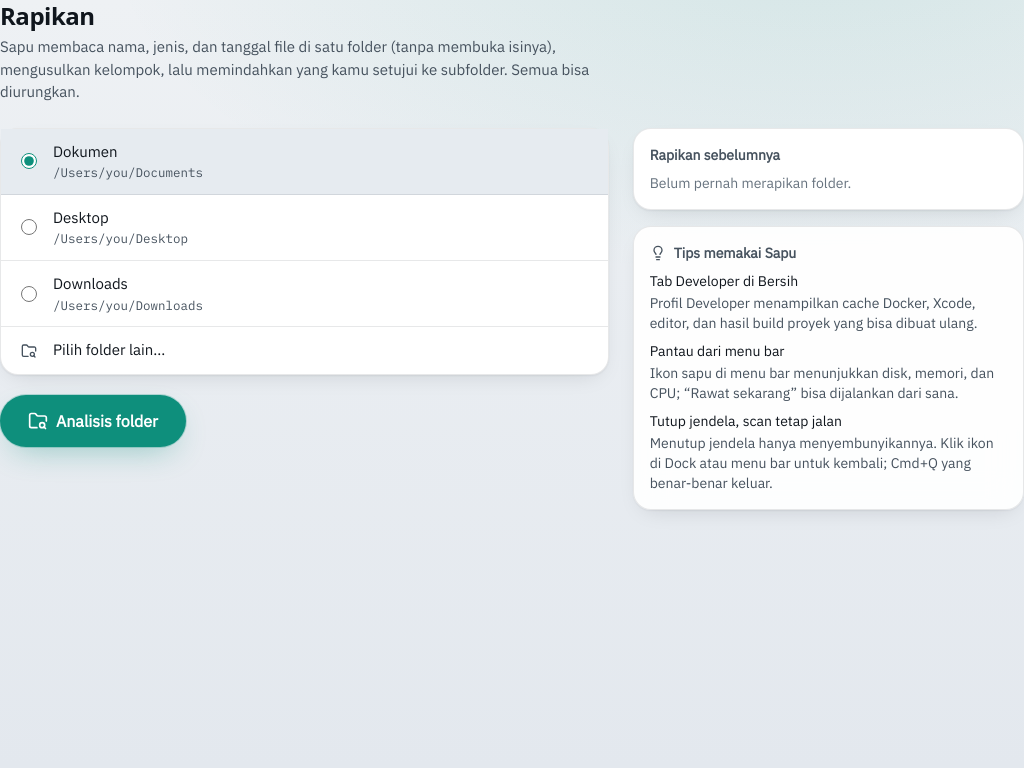
Scenario: OrganizeView › ticks every waiting group with one button in the callout
Click the button "Analisis folder" at [93, 421], box [0, 395, 186, 447]
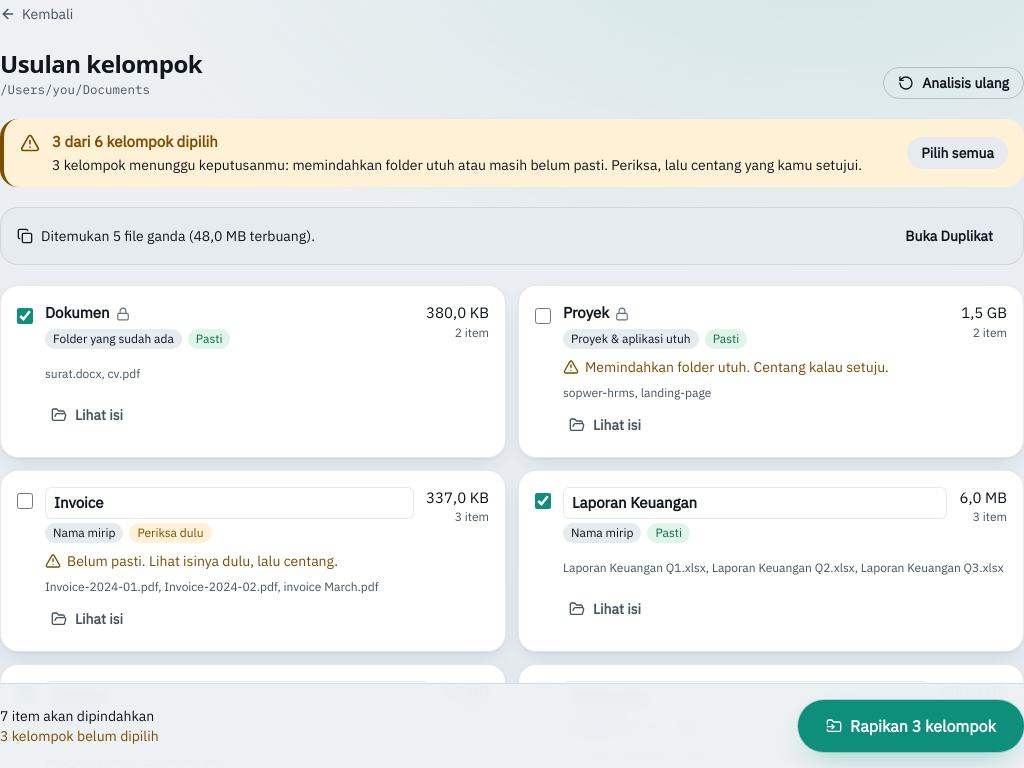
Click the button "Pilih semua" at [958, 153], box [907, 137, 1008, 169]
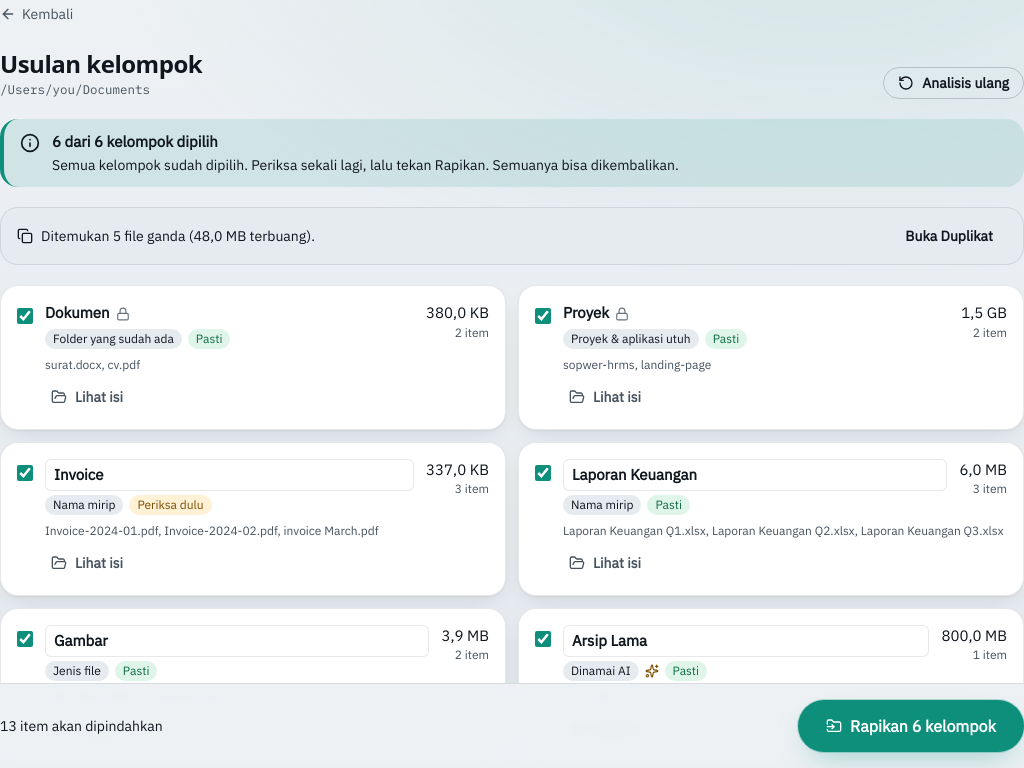
expect the element that starts with "6 dari 6 kelompok dipilih" is shown: met, box [52, 132, 218, 151]
expect the checkbox named "Pindahkan" is checked: met, box [535, 631, 551, 647]
expect the text "kelompok belum dipilih" is gone: met
